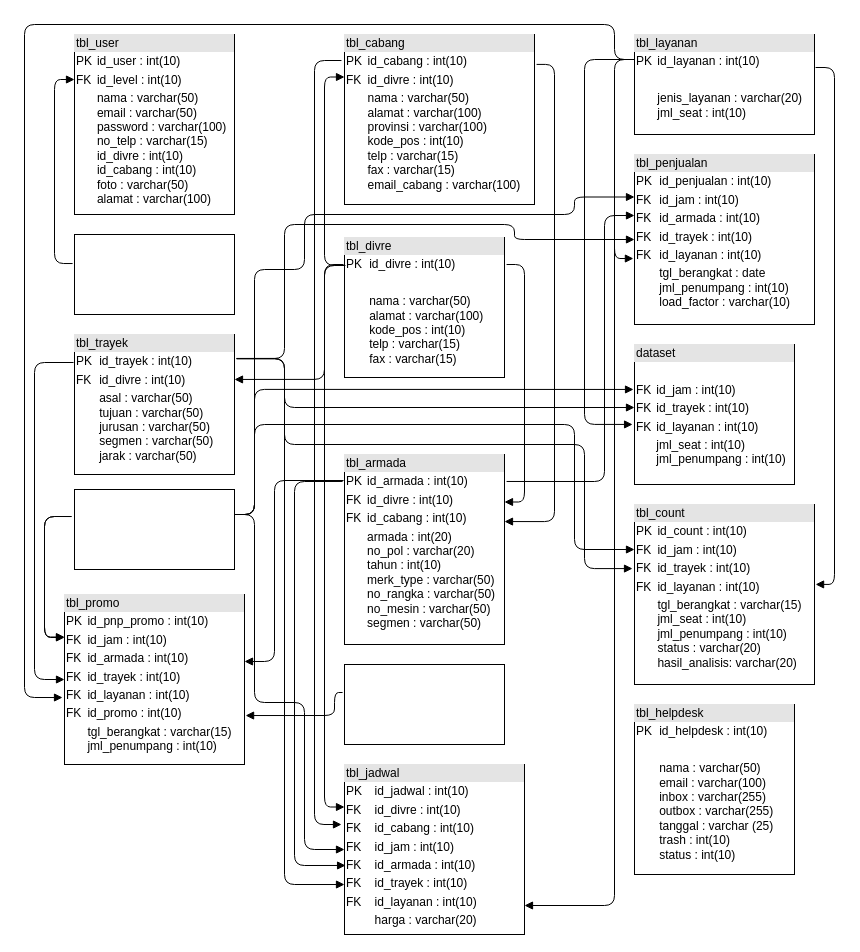
The diagram is 860 pixels wide and 952 high, and some of its shapes have lost their labels. Here are the shapes that lost their labels. From the top down, the box of each, then its label:
(74, 234, 234, 314): tbl_level PK id_level: int(10) level : varchar(100)
(74, 488, 234, 570): tbl_jam PK id_jam : int(10) jam : varchar(20)
(344, 664, 504, 744): tbl_promo PK id_promo : int(10) promo: varchar(50)
